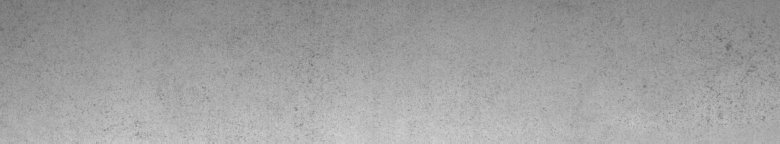ib: (677, 22, 773, 121)
